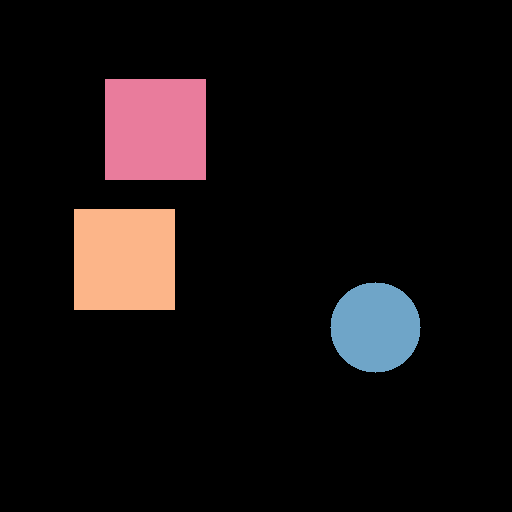circle: (330, 282, 420, 372)
square: (74, 209, 174, 309), (105, 79, 205, 179)
